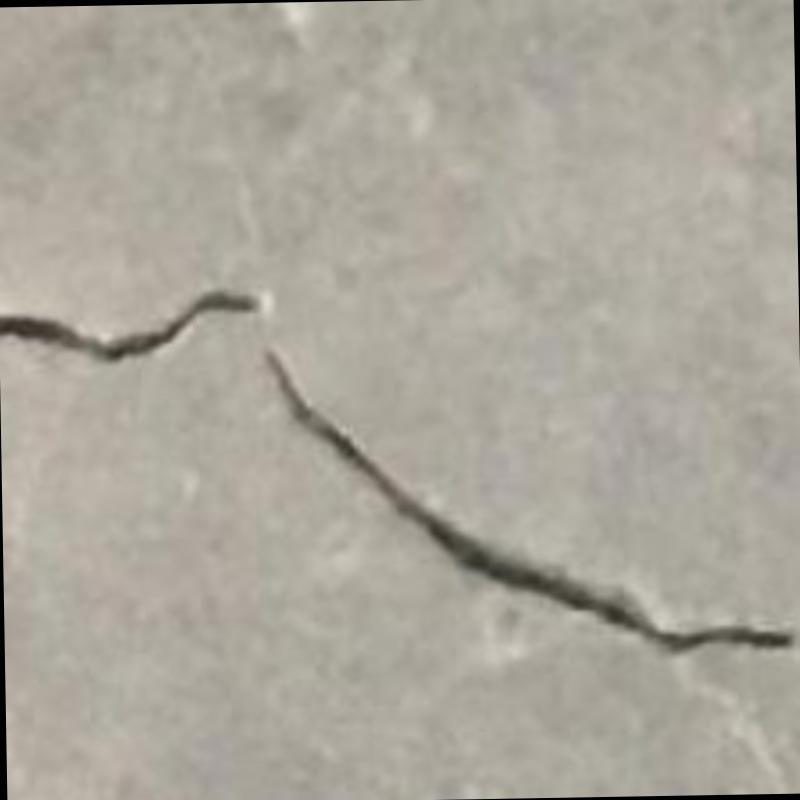pothole: (0, 292, 800, 651)
